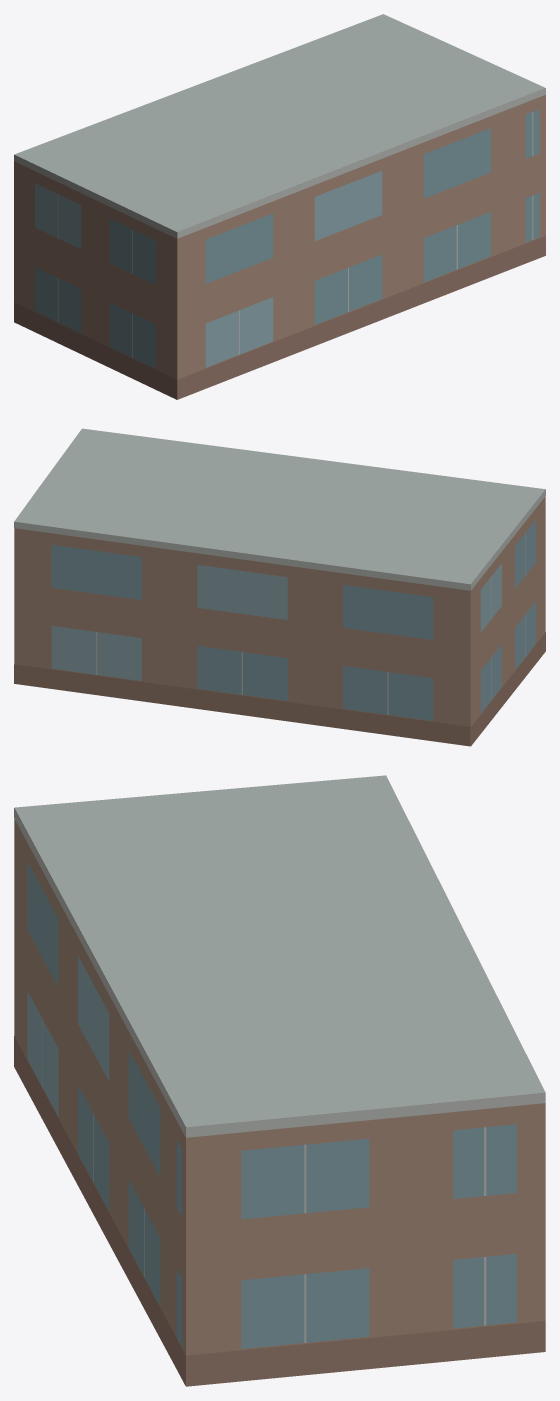
File: survey-upis-32616216.glb
The picture shows the model from 3 angles, top to bottom: view 1: azimuth 30°, elevation 25°; view 2: azimuth 150°, elevation 25°; view 3: azimuth 270°, elevation 25°; orthographic projection. The views are drawn at different scales.
Visible parts, largest first — view 1: survey-upis-32616216.tmp; view 2: survey-upis-32616216.tmp; view 3: survey-upis-32616216.tmp.
Part boxes in pixels (x1,y1,x2,y2): survey-upis-32616216.tmp: (14,14,545,399); survey-upis-32616216.tmp: (14,428,545,746); survey-upis-32616216.tmp: (14,775,545,1386).
Size of the model in its own units: 17.79 by 6.1 by 11.35.
